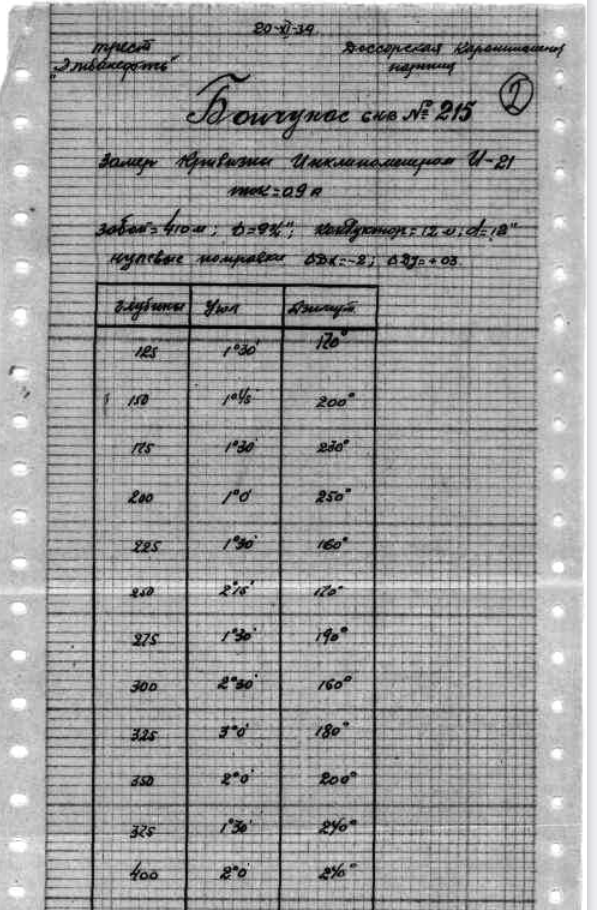Bordered: (96, 282, 375, 904)
